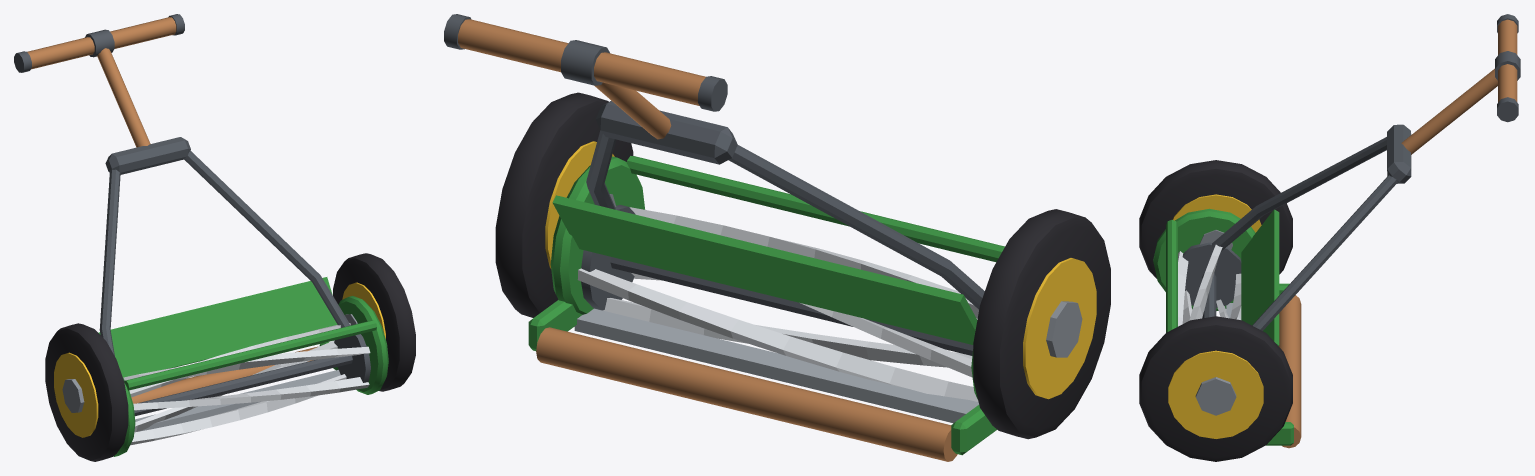
Rendered from mower_reel.glb.
3 renders of one model, left to right at view 1: azimuth 30°, elevation 25°; view 2: azimuth 150°, elevation 25°; view 3: azimuth 270°, elevation 25°, orthographic. The views are drawn at different scales.
Visible parts, largest first — view 1: Deck, Chassis, Reel, Wheel_R, Wheel_L; view 2: Deck, Wheel_R, Chassis, Reel, Wheel_L; view 3: Wheel_L, Deck, Chassis, Wheel_R, Reel.
Boxes of the visible parts, bbox=[...] form: Deck: bbox=[98, 277, 388, 456]; Chassis: bbox=[14, 14, 350, 355]; Reel: bbox=[123, 323, 370, 445]; Wheel_R: bbox=[45, 323, 128, 461]; Wheel_L: bbox=[333, 253, 415, 391]; Deck: bbox=[528, 155, 1004, 461]; Wheel_R: bbox=[973, 209, 1110, 439]; Chassis: bbox=[444, 14, 984, 309]; Reel: bbox=[577, 205, 978, 401]; Wheel_L: bbox=[495, 92, 633, 317]; Wheel_L: bbox=[1139, 316, 1292, 461]; Deck: bbox=[1153, 208, 1301, 448]; Chassis: bbox=[1212, 14, 1520, 330]; Wheel_R: bbox=[1139, 160, 1292, 278]; Reel: bbox=[1178, 242, 1241, 326].
Bounding box in the file's own units: 1.21 × 1.06 × 1.12.
